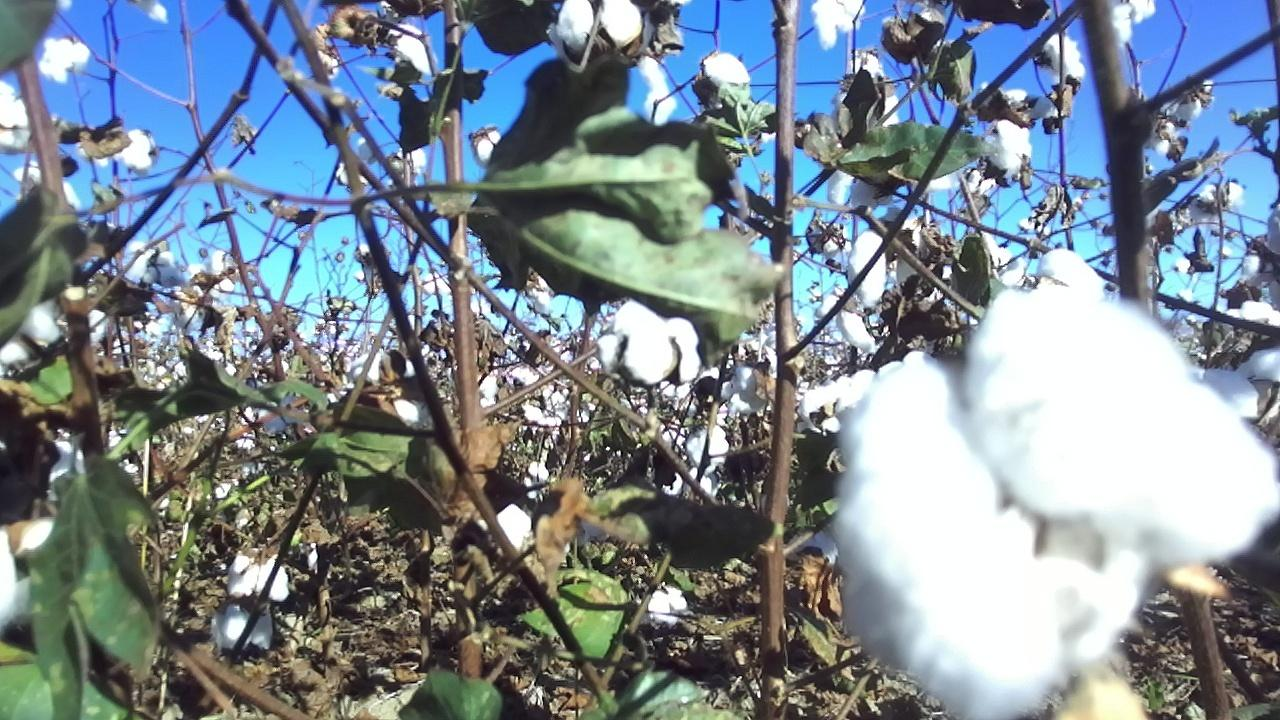cotton_ready: (825, 284, 1280, 720), (597, 295, 702, 389), (0, 519, 80, 639), (1199, 344, 1280, 434), (555, 0, 647, 52), (1032, 247, 1109, 302), (696, 49, 752, 112)
